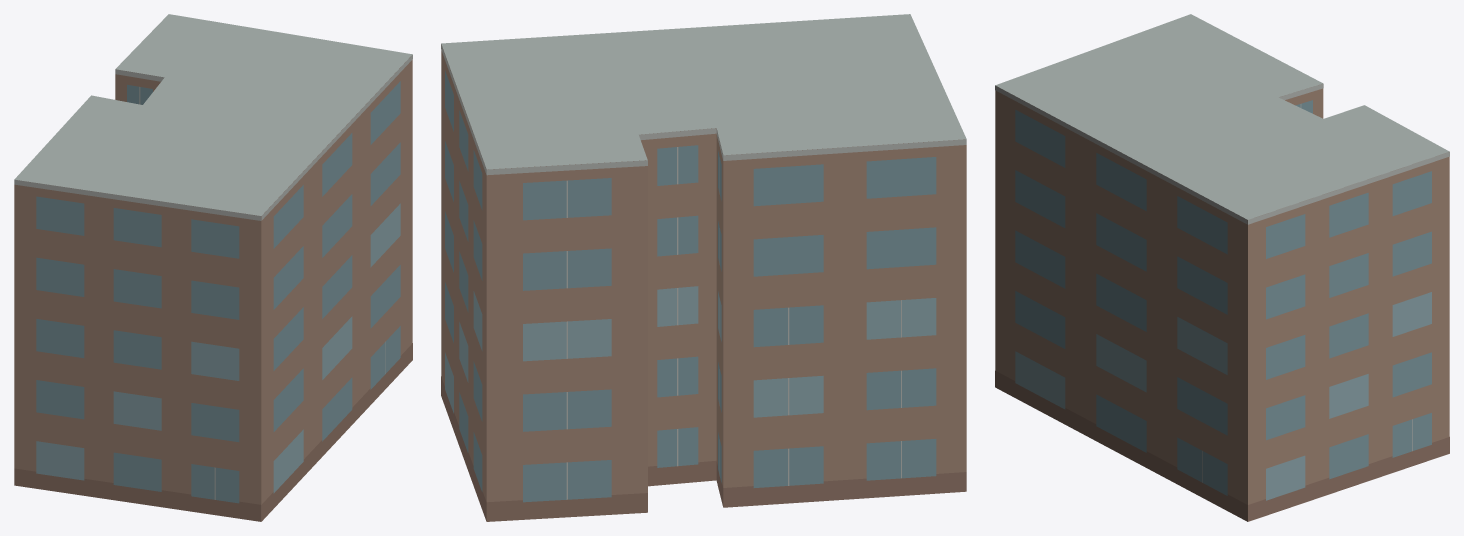
The model's file is survey-upis-32762098.glb.
The picture shows the model from 3 angles, left to right: view 1: azimuth 30°, elevation 25°; view 2: azimuth 150°, elevation 25°; view 3: azimuth 270°, elevation 25°; orthographic projection. The views are drawn at different scales.
Parts seen in each view (by area): view 1: survey-upis-32762098.tmp; view 2: survey-upis-32762098.tmp; view 3: survey-upis-32762098.tmp.
Part boxes in pixels (x1,y1,x2,y2): survey-upis-32762098.tmp: (14,14,412,521); survey-upis-32762098.tmp: (441,14,966,521); survey-upis-32762098.tmp: (995,14,1449,521).
Size of the model in its own units: 22.02 by 15.05 by 20.54.
